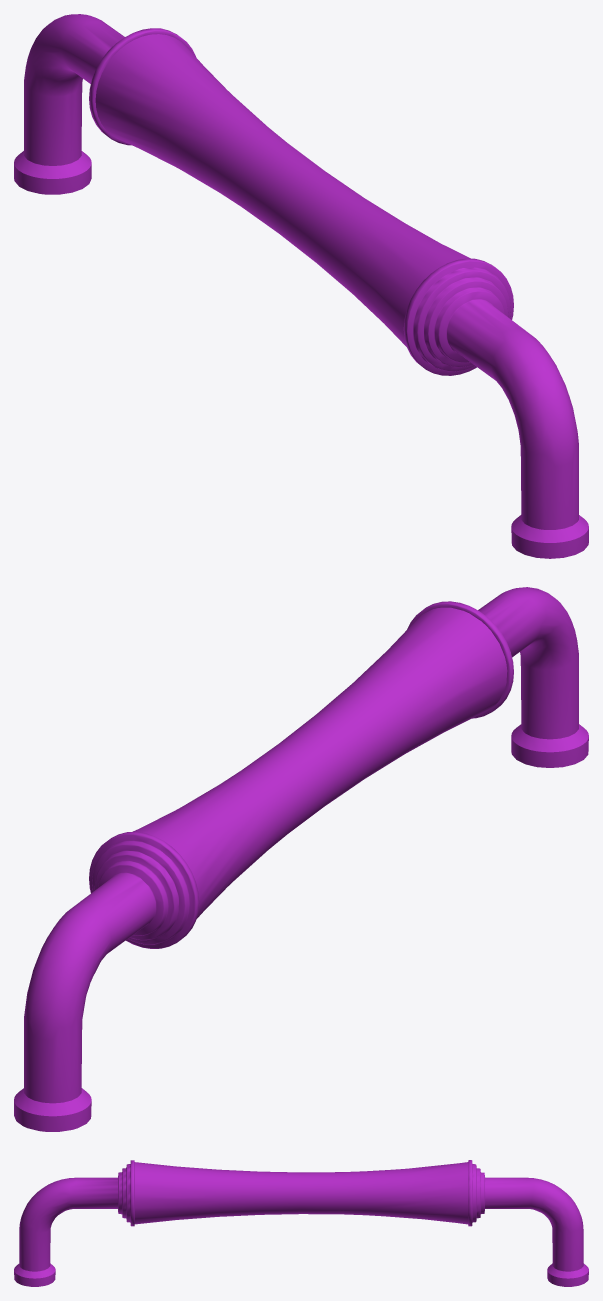
The model's file is rychka_3_1.glb.
The picture shows the model from 3 angles, top to bottom: view 1: azimuth 30°, elevation 25°; view 2: azimuth 150°, elevation 25°; view 3: azimuth 270°, elevation 25°; orthographic projection. The views are drawn at different scales.
Visible parts, largest first — view 1: L4.010.128BL; view 2: L4.010.128BL; view 3: L4.010.128BL.
Part boxes in pixels (box(x1,y1,x2,y2)): L4.010.128BL: box(14, 14, 588, 558); L4.010.128BL: box(14, 587, 588, 1131); L4.010.128BL: box(14, 1160, 588, 1286).
Size of the model in its own units: 1.59 by 3.05 by 13.8.
